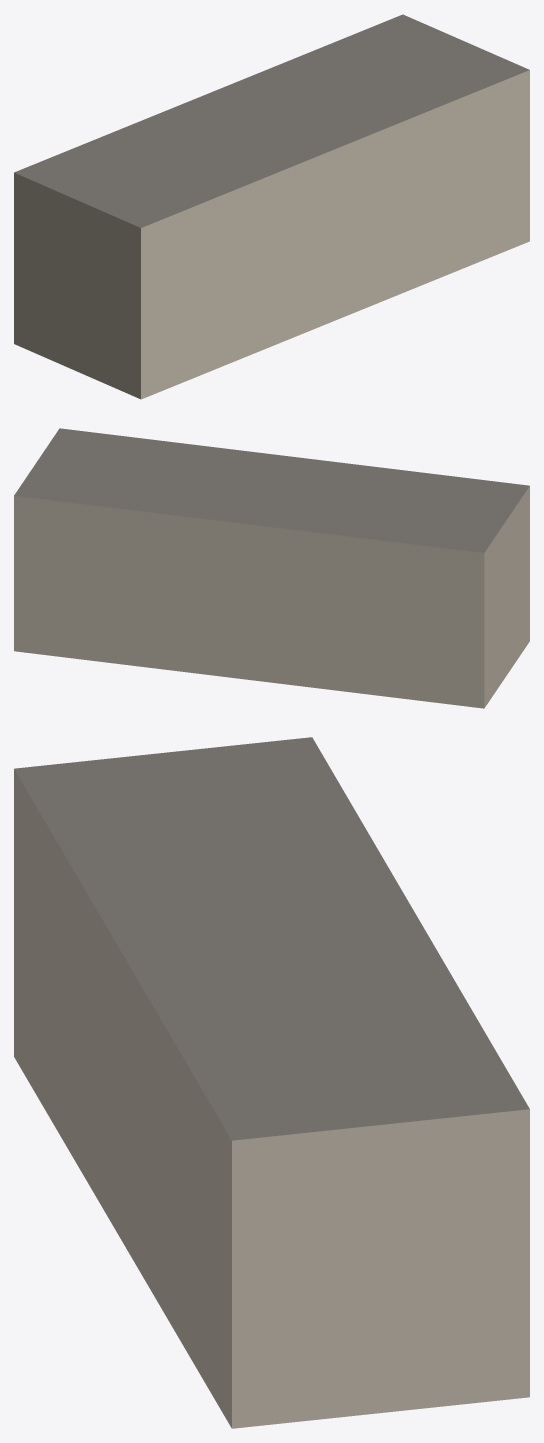
3 renders of one model, top to bottom at view 1: azimuth 30°, elevation 25°; view 2: azimuth 150°, elevation 25°; view 3: azimuth 270°, elevation 25°, orthographic. The views are drawn at different scales.
Visible parts, largest first — view 1: HP-w378107152; view 2: HP-w378107152; view 3: HP-w378107152.
Boxes of the visible parts, x1,y1,x2,y2 form: HP-w378107152: (14,14,529,399); HP-w378107152: (14,428,529,708); HP-w378107152: (14,737,529,1428).
Bounding box in the file's own units: 54.06 × 18 × 29.22.
